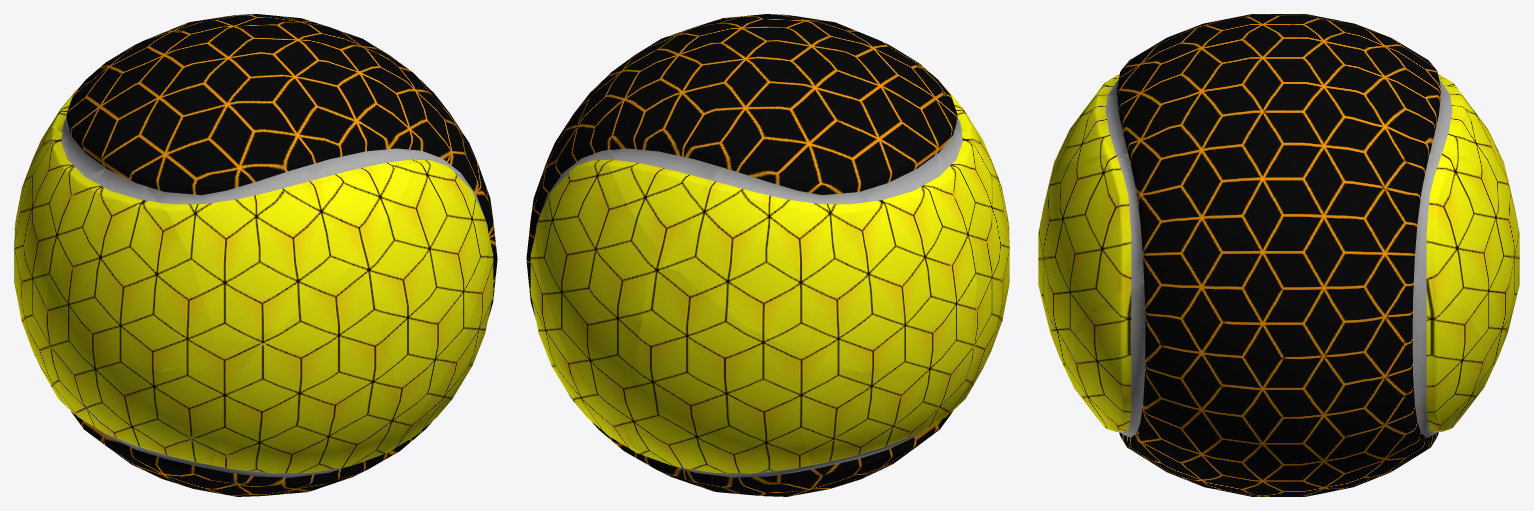
The model's file is Tennis ball break.fbx.
3 views of the same model, side by side, from view 1: azimuth 30°, elevation 25°; view 2: azimuth 150°, elevation 25°; view 3: azimuth 270°, elevation 25° (orthographic).
Parts seen in each view (by area): view 1: Tennis ball.005, Tennis ball.002, Tennis ball.001, Tennis ball.007, Tennis ball.006, Tennis ball.003, Tennis ball.010, Tennis ball.016, Tennis ball, Tennis ball.008, Tennis ball.004, Tennis ball.011; view 2: Tennis ball.016, Tennis ball.012, Tennis ball.010, Tennis ball, Tennis ball.015, Tennis ball.011, Tennis ball.001, Tennis ball.005, Tennis ball.014, Tennis ball.003, Tennis ball.006; view 3: Tennis ball.008, Tennis ball.014, Tennis ball.015, Tennis ball.007, Tennis ball, Tennis ball.006, Tennis ball.016, Tennis ball.005.
Part boxes in pixels (box(x1,y1,x2,y2)): Tennis ball.005: box(118, 70, 356, 355); Tennis ball.002: box(205, 259, 398, 477); Tennis ball.001: box(43, 147, 217, 374); Tennis ball.007: box(357, 64, 488, 440); Tennis ball.006: box(228, 47, 419, 257); Tennis ball.003: box(45, 347, 222, 483); Tennis ball.010: box(14, 122, 116, 346); Tennis ball.016: box(39, 35, 227, 152); Tennis ball: box(158, 14, 395, 69); Tennis ball.008: box(386, 173, 497, 457); Tennis ball.004: box(160, 461, 363, 496); Tennis ball.011: box(17, 299, 81, 425); Tennis ball.016: box(663, 44, 932, 355); Tennis ball.012: box(625, 267, 857, 496); Tennis ball.010: box(806, 130, 977, 374); Tennis ball: box(604, 21, 829, 257); Tennis ball.015: box(535, 45, 666, 442); Tennis ball.011: box(801, 355, 964, 483); Tennis ball.001: box(930, 122, 1009, 356); Tennis ball.005: box(831, 35, 984, 144); Tennis ball.014: box(526, 173, 637, 457); Tennis ball.003: box(860, 299, 1006, 478); Tennis ball.006: box(700, 14, 865, 44); Tennis ball.008: box(1071, 256, 1319, 496); Tennis ball.014: box(1266, 256, 1486, 493); Tennis ball.015: box(1251, 145, 1519, 404); Tennis ball.007: box(1038, 145, 1266, 404); Tennis ball: box(1243, 21, 1502, 442); Tennis ball.006: box(1055, 23, 1251, 168); Tennis ball.016: box(1244, 14, 1506, 176); Tennis ball.005: box(1051, 15, 1247, 173).
Size of the model in its own units: 112 by 112 by 112.
